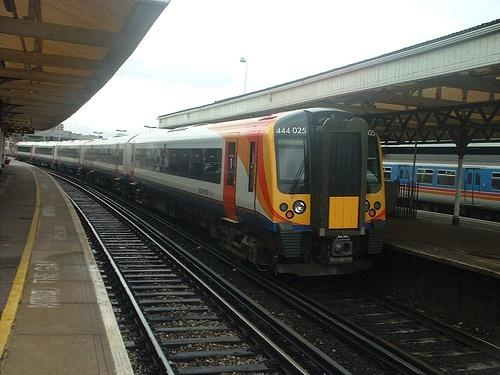train: (16, 108, 387, 283), (383, 153, 500, 222)
